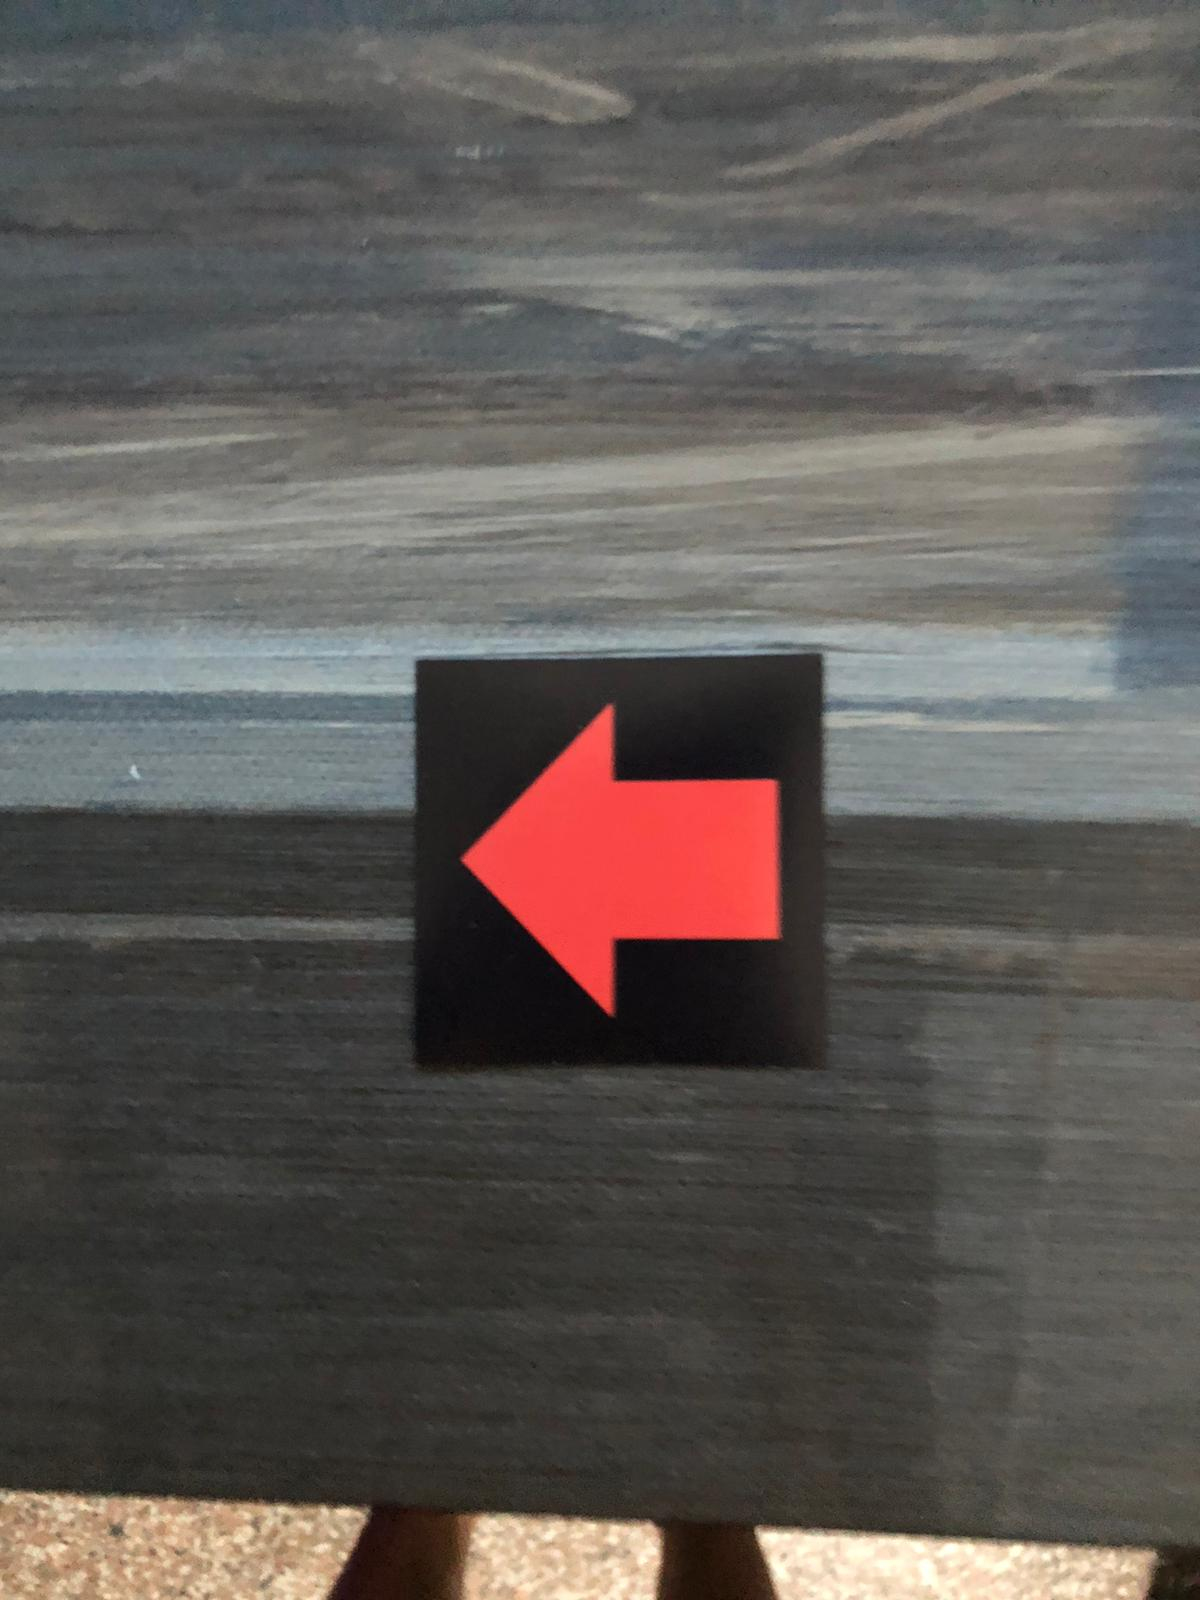Left Arrow: (405, 664, 832, 1077)
